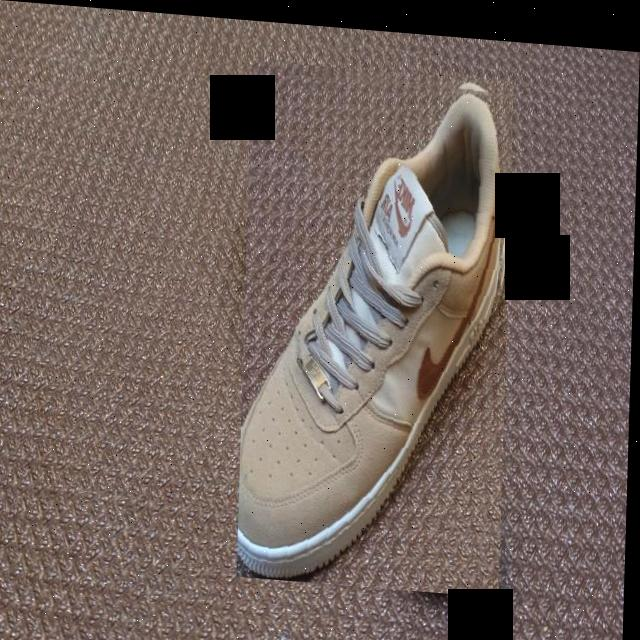shoe: (240, 56, 514, 589)
